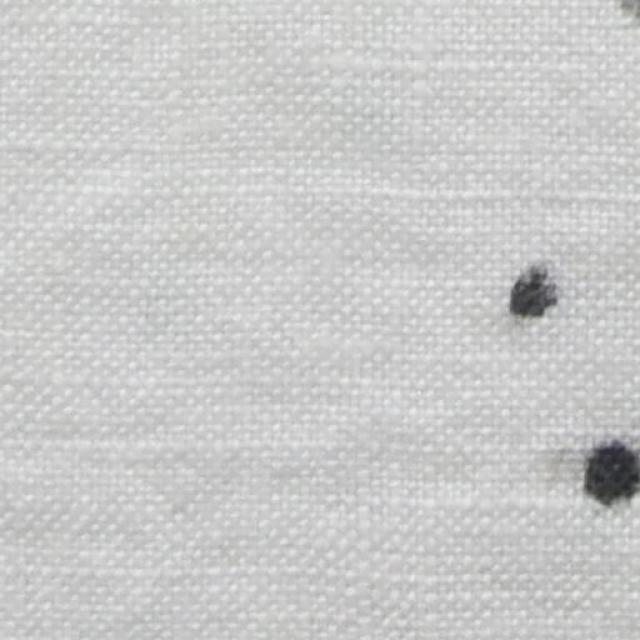Stain: (586, 441, 640, 506), (512, 261, 559, 316)
